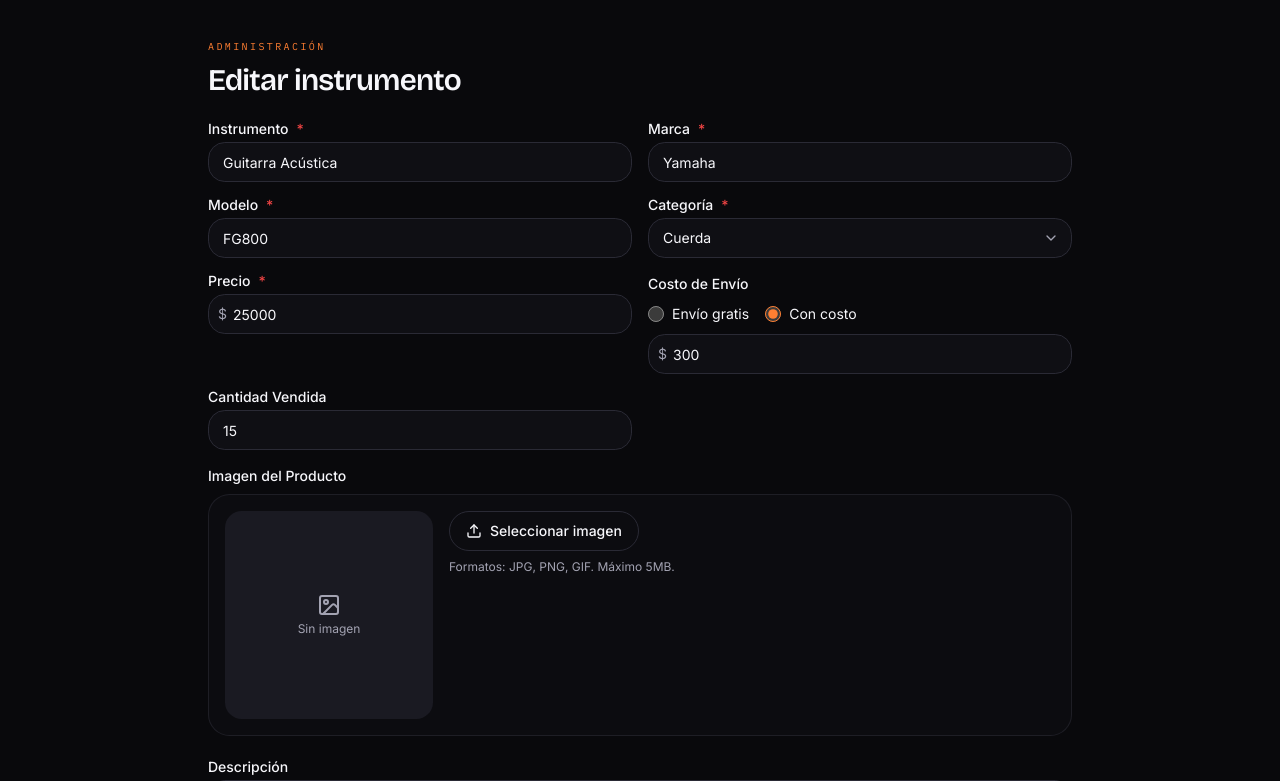
InstrumentoForm (editar) › permite editar un envío con costo y exige un valor válido
Check: the radio button labelled "Con costo" is checked, box [765,306,781,322]
Clear the number field named "Costo de envío" at x=860, y=354, box [648,334,1072,374]
(page scrolled)
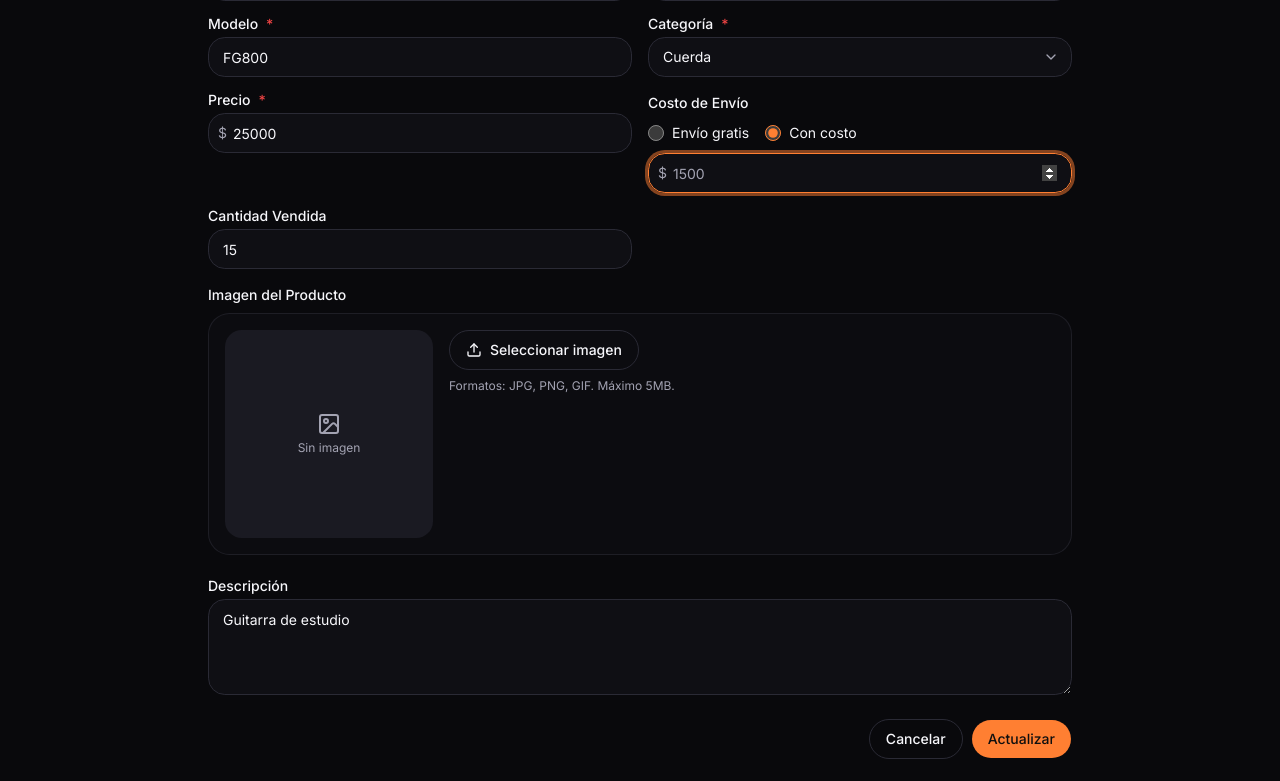
Click the button "Actualizar" at x=1021, y=739, box [971,719,1072,759]
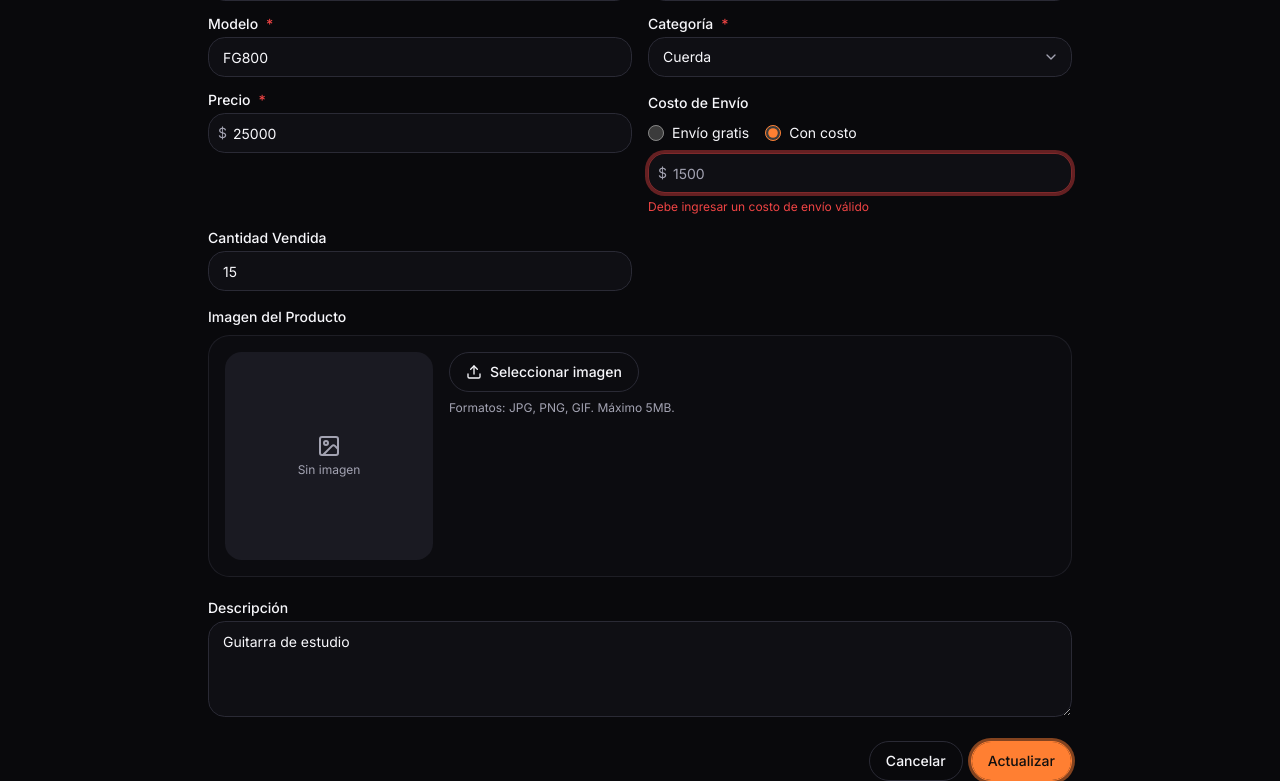
Check: the text "Debe ingresar un costo de envío válido" is shown, box [648,199,869,214]
